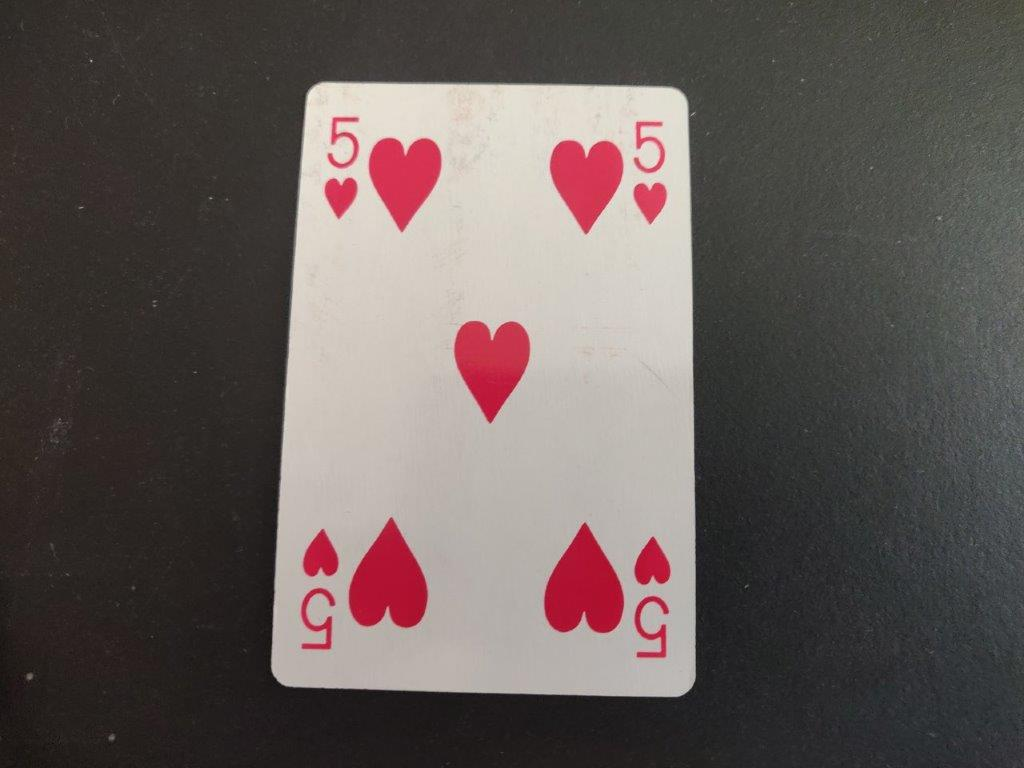5H: (320, 113, 365, 224), (630, 118, 673, 234)
